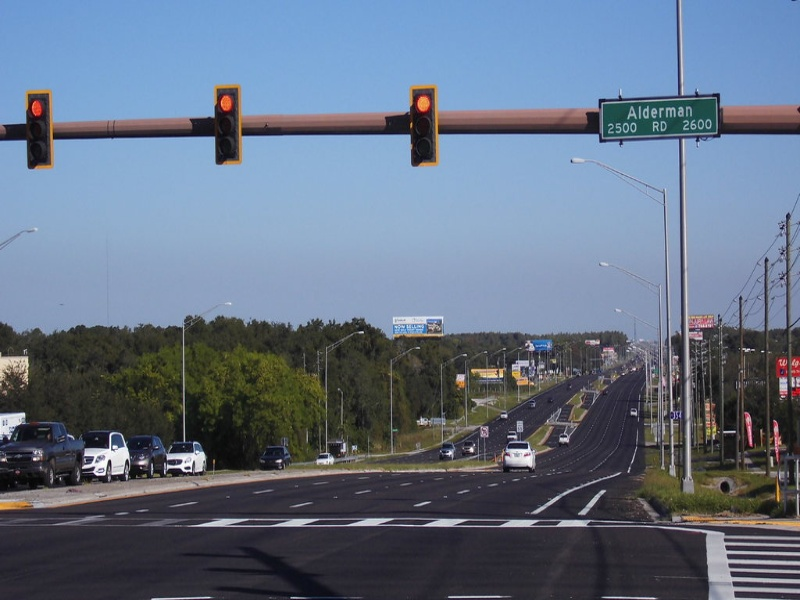red_light: (208, 83, 244, 115), (21, 90, 52, 121), (405, 86, 437, 115)
